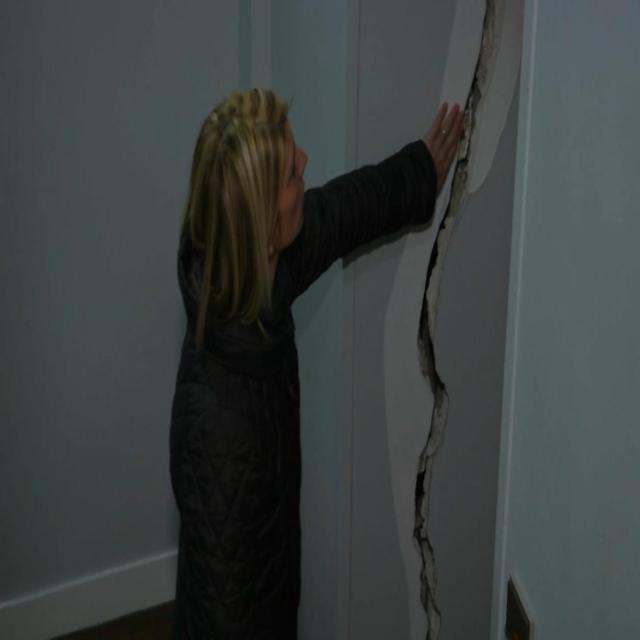crack: (414, 0, 507, 635)
